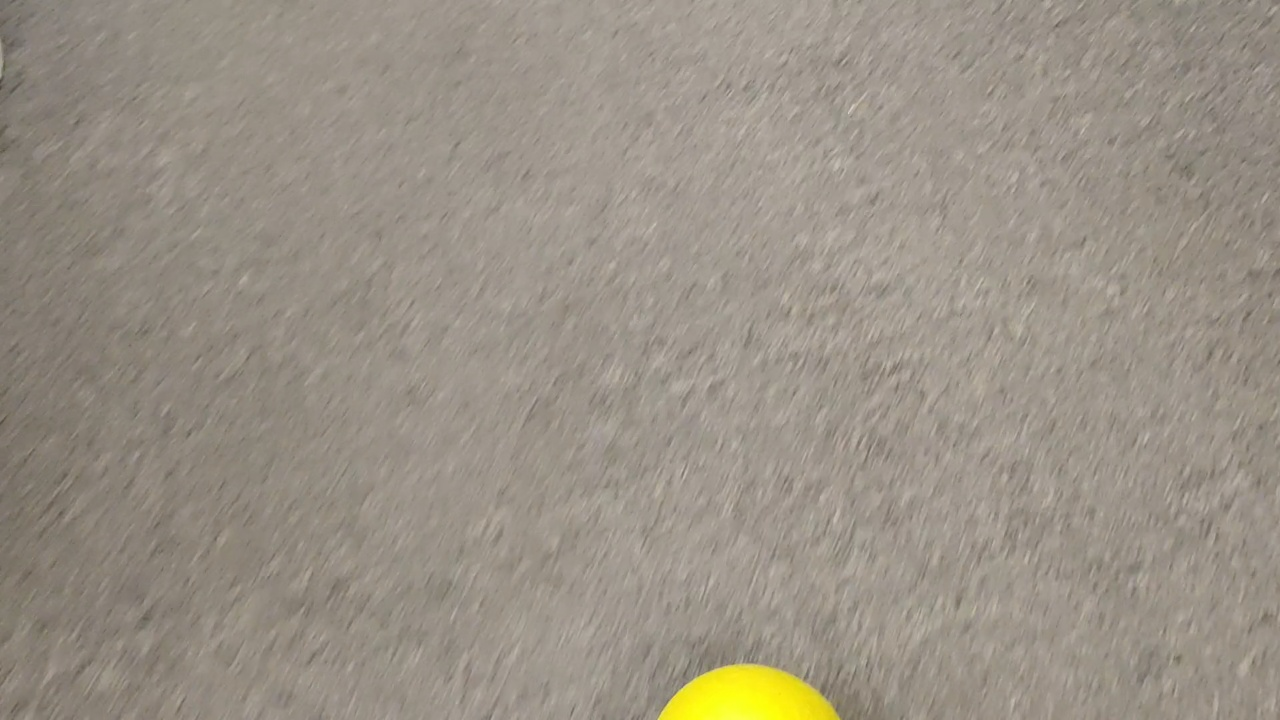Ball: (656, 664, 839, 720)
